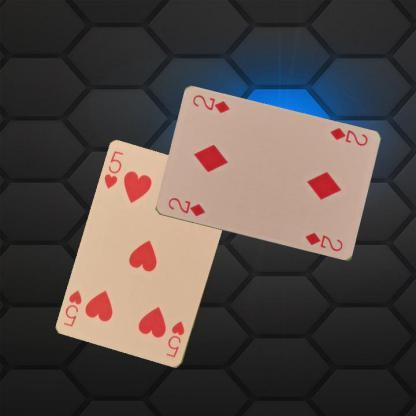2d: (327, 124, 369, 148), (166, 194, 206, 218)
5h: (101, 148, 124, 190), (164, 318, 186, 360)
